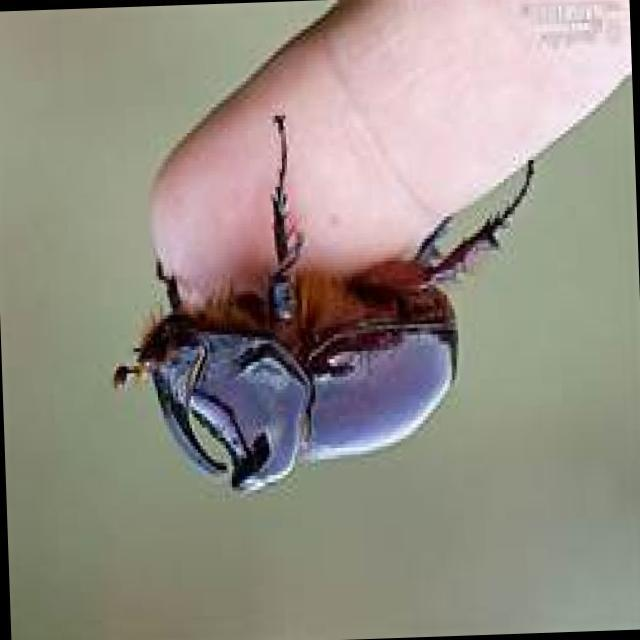Rhino-beetle: (109, 192, 502, 492)
